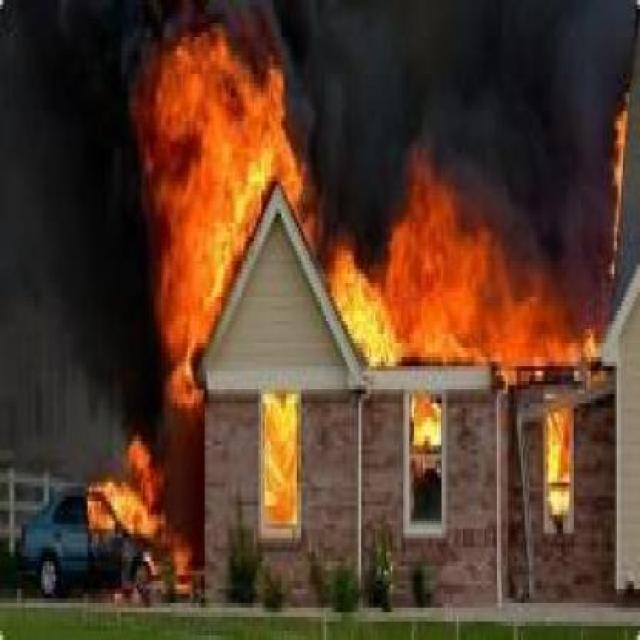Fire: (120, 8, 332, 424), (310, 134, 608, 403), (237, 348, 566, 558), (61, 440, 197, 606), (595, 80, 640, 297)
Smoke: (243, 0, 640, 326), (7, 0, 162, 468)
